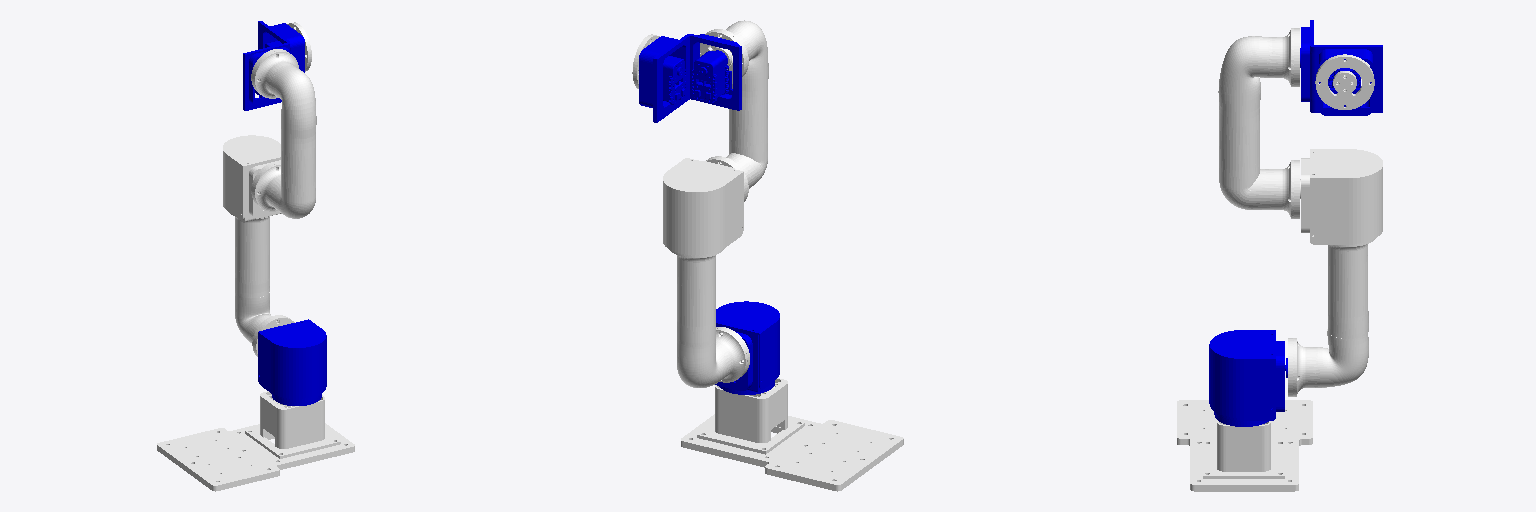
The robot description file, URDF, robot "robotic_arm":
<?xml version="1.0"?>
<robot name="robotic_arm">

  <link name="base_link">

    <visual>
      <geometry>
        <mesh filename="package://robotic_arm/meshes/base_link.STL" scale="1 1 1" />
      </geometry>
      <origin rpy="0 0 0" xyz="0 0 0.5"/>
      <material name="white">
        <color rgba="1 1 1 1"/>
      </material>
    </visual>

    <collision>
      <geometry>
        <box size = "0.5 0.5 1"/>
      </geometry>
      <origin rpy="0 0 0" xyz="0 0 0"/>
    </collision>

    <inertial>
	<mass value="1"/>
	<inertia ixx="1.0" ixy="0.0" ixz="0.0" iyy="1.0" iyz="0.0" izz="1.0"/>
    </inertial>

  </link>

  <joint name="base_torso_joint" type="revolute">
    <parent link="base_link"/>
    <child link="torso_link"/>
    <origin xyz="0 0 60.53" rpy="0 0 0"/>
    <axis xyz="0 0 1" />
    <limit effort="300" velocity="0.1" lower="-3.14" upper="3.14"/>
    <dynamics damping="50" friction="1"/>
  </joint>

  <link name="torso_link">

    <visual>
      <geometry>
	      <mesh filename="package://robotic_arm/meshes/torso_link.STL" scale="1 1 1" />
      </geometry>
      <origin rpy="0 0 0" xyz="0 0 0"/>
      <material name="blue">
        <color rgba="0 0 1 1"/>
      </material>
    </visual>

    <collision>
      <geometry>
	      <box size = "0.5 0.5 1"/>
      </geometry>
      <origin rpy="0 0 0" xyz="0 0 0.5"/>
    </collision>

    <inertial>
	<mass value="1"/>
	<inertia ixx="1.0" ixy="0.0" ixz="0.0" iyy="1.0" iyz="0.0" izz="1.0"/>
    </inertial>

  </link>

  <joint name="torso_forearm_joint" type="revolute">
    <parent link="torso_link"/>
    <child link="forearm_link"/>
    <origin xyz="0 48.22 56.5" rpy="0 0 0"/>
    <axis xyz="0 1 0" />
    <limit effort="300" velocity="0.1" lower="-3.14" upper="3.14"/>
    <dynamics damping="50" friction="1"/>
  </joint>

<link name="forearm_link">

    <visual>
      <geometry>
	    <mesh filename="package://robotic_arm/meshes/forearm_link.STL" scale="1 1 1" />
      </geometry>
      <origin rpy="0 0 0" xyz="0 0 0"/>
      <material name="white">
        <color rgba="1 1 1 1"/>
      </material>
    </visual>

    <collision>
      <geometry>
    	<box size = "0.5 0.5 4"/>
      </geometry>
      <origin rpy="0 0 0" xyz="0 0 0"/>
    </collision>

    <inertial>
	<mass value="1"/>
	<inertia ixx="1.0" ixy="0.0" ixz="0.0" iyy="1.0" iyz="0.0" izz="1.0"/>
    </inertial>

  </link>

 <joint name="forearm_arm_link" type="revolute">
    <parent link="forearm_link"/>
    <child link="arm_link"/>
    <origin xyz="0 13.0 215.75" rpy="0 0 0"/>
    <axis xyz="0 1 0" />
    <limit effort="300" velocity="0.1" lower="-3.14" upper="3.14"/>
    <dynamics damping="50" friction="1"/>
  </joint>

<link name="arm_link">

    <visual>
      <geometry>
	    <mesh filename="package://robotic_arm/meshes/arm_link.STL" scale="1 1 1" />
      </geometry>
      <origin rpy="0 0 0" xyz="0 0 0"/>
      <material name="white">
        <color rgba="1 1 1 1"/>
      </material>
    </visual>

    <collision>
      <geometry>
	<box size = "0.5 0.5 3"/>
      </geometry>
      <origin rpy="0 0 0" xyz="0 0 0"/>
    </collision>

    <inertial>
	<mass value="1"/>
	<inertia ixx="1.0" ixy="0.0" ixz="0.0" iyy="1.0" iyz="0.0" izz="1.0"/>
    </inertial>

  </link>

 <joint name="arm_wrist_joint" type="revolute">
    <parent link="arm_link"/>
    <child link="wrist_link"/>
    <origin xyz="0 4.5 160" rpy="0 0 0"/>
    <axis xyz="0 1 0" />
    <limit effort="300" velocity="0.1" lower="-3.14" upper="3.14"/>
    <dynamics damping="50" friction="1"/>
  </joint>

<link name="wrist_link">

    <visual>
      <geometry>
	    <mesh filename="package://robotic_arm/meshes/wrist_link.STL" scale="1 1 1" />
      </geometry>
      <origin rpy="0 0 0" xyz="0 0 0"/>
      <material name="blue">
        <color rgba="0 0 1 1"/>
      </material>
    </visual>

    <collision>
      <geometry>
	<box size = "0.5 0.5 0.5"/>
      </geometry>
      <origin rpy="0 0 0" xyz="0 0 0.5"/>
    </collision>

    <inertial>
	<mass value="1"/>
	<inertia ixx="1.0" ixy="0.0" ixz="0.0" iyy="1.0" iyz="0.0" izz="1.0"/>
    </inertial>

  </link>

 <joint name="wrist_gripper_joint" type="revolute">
    <parent link="wrist_link"/>
    <child link="gripper_link"/>
    <origin xyz="61 45.25 0" rpy="0 0 0"/>
    <axis xyz="1 0 0" />
    <limit effort="300" velocity="0.1" lower="-3.14" upper="3.14"/>
    <dynamics damping="50" friction="1"/>
  </joint>

<link name="gripper_link">

    <visual>
      <geometry>
	    <mesh filename="package://robotic_arm/meshes/gripper_link.STL" scale="1 1 1" />
      </geometry>
      <origin rpy="0 0 0" xyz="0.5 0 0"/>
      <material name="white">
        <color rgba="1 1 1 1"/>
      </material>
    </visual>

    <collision>
      <geometry>
	<box size = "1 1 1"/>
      </geometry>
      <origin rpy="0 0 0" xyz="0 0 0.5"/>
    </collision>

    <inertial>
	<mass value="1"/>
	<inertia ixx="1.0" ixy="0.0" ixz="0.0" iyy="1.0" iyz="0.0" izz="1.0"/>
    </inertial>

  </link>

</robot>

--- What the picture shows (computed from the rendered views, not written in the file) ---
3 views of the same robot in one strip: view 1: azimuth 30°, elevation 25°; view 2: azimuth 150°, elevation 25°; view 3: azimuth 270°, elevation 25° (orthographic).
Robot: robotic_arm — 6 links, 5 joints (5 revolute); root link base_link; default pose: all joints at 0.
Visible links, largest first — view 1: base_link, forearm_link, arm_link, torso_link, wrist_link; view 2: forearm_link, base_link, wrist_link, arm_link, torso_link; view 3: forearm_link, arm_link, base_link, torso_link, wrist_link, gripper_link.
Link boxes in pixels (<box>): base_link: <box>157,391,354,491</box>; forearm_link: <box>223,135,294,356</box>; arm_link: <box>251,49,316,218</box>; torso_link: <box>258,319,326,405</box>; wrist_link: <box>243,21,304,110</box>; forearm_link: <box>663,158,749,387</box>; base_link: <box>681,378,903,491</box>; wrist_link: <box>639,34,741,122</box>; arm_link: <box>700,20,768,201</box>; torso_link: <box>715,301,779,394</box>; forearm_link: <box>1288,149,1382,396</box>; arm_link: <box>1218,28,1299,218</box>; base_link: <box>1177,400,1312,491</box>; torso_link: <box>1209,330,1287,426</box>; wrist_link: <box>1300,20,1382,115</box>; gripper_link: <box>1315,54,1374,109</box>.
Bounding box of the posed robot: 233 × 227 × 533 m (x, y, z).
Meshes: 6 distinct files referenced, 6 mesh visuals loaded (6 binary STL).